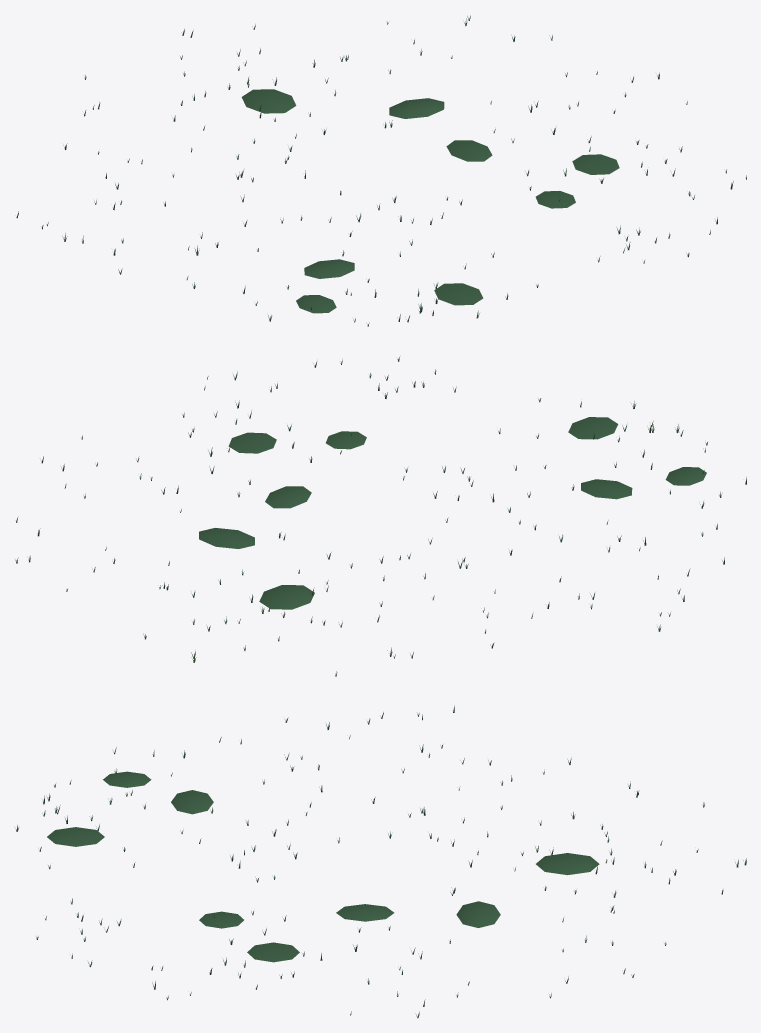
Rendered from world_site_steppe_grass.glb.
3 views of the same model, one above another, from view 1: azimuth 30°, elevation 25°; view 2: azimuth 150°, elevation 25°; view 3: azimuth 270°, elevation 25° (orthographic).
Visible parts, largest first — view 1: world_site_steppe_grass_mesh; view 2: world_site_steppe_grass_mesh; view 3: world_site_steppe_grass_mesh.
Part boxes in pixels (bbox=[...]): world_site_steppe_grass_mesh: bbox=[16, 15, 746, 326]; world_site_steppe_grass_mesh: bbox=[15, 357, 746, 676]; world_site_steppe_grass_mesh: bbox=[16, 705, 746, 1018].
Bounding box in the file's own units: 135 × 1.86 × 136.
